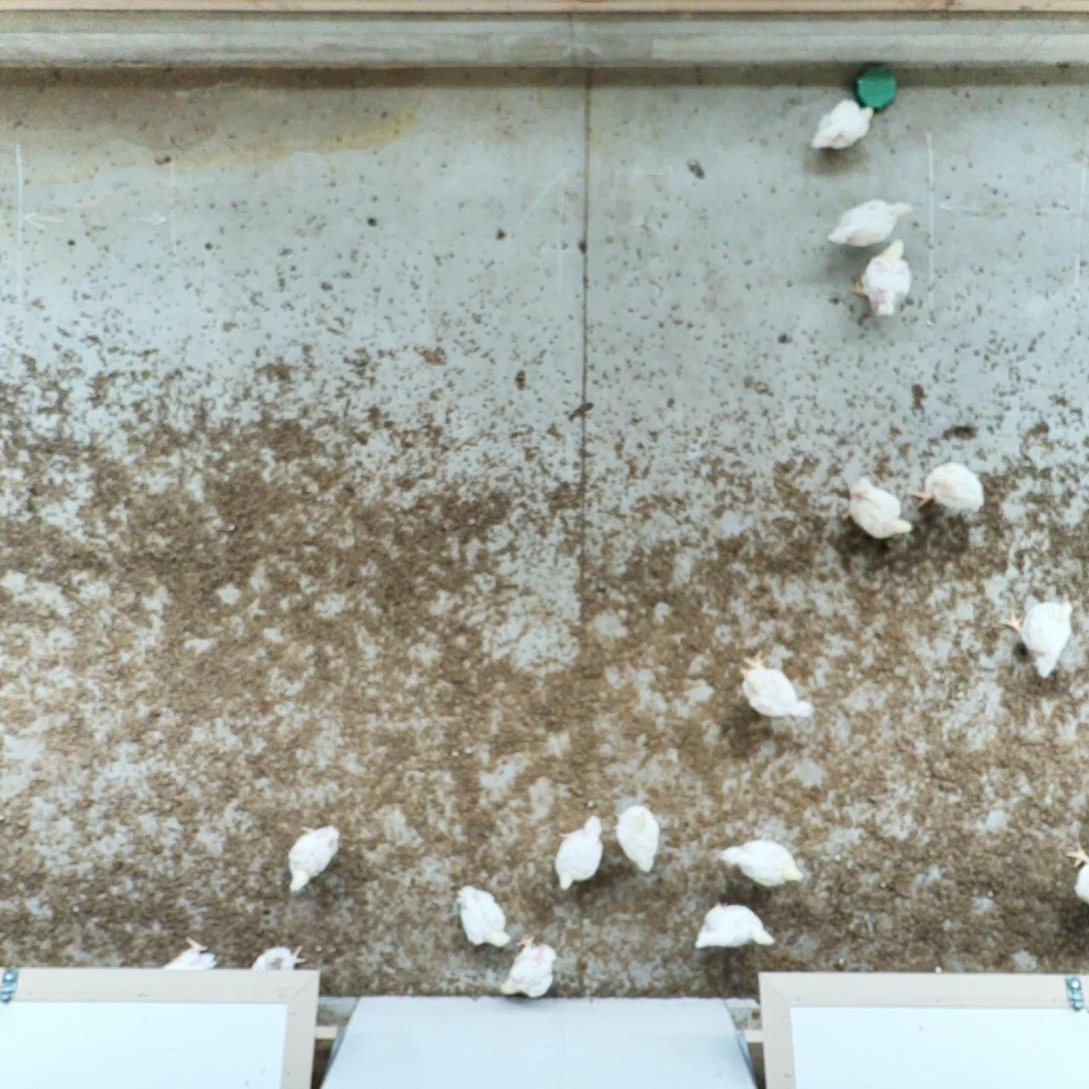chicken: (1003, 595, 1077, 678), (848, 238, 915, 320), (842, 473, 917, 543), (738, 651, 814, 720), (719, 835, 806, 888), (910, 458, 988, 517), (828, 197, 913, 251), (283, 822, 343, 898), (694, 899, 776, 954), (554, 812, 608, 888), (497, 935, 559, 1000), (811, 96, 876, 154), (456, 884, 512, 949), (614, 802, 663, 873), (158, 935, 220, 976), (250, 943, 309, 976), (1065, 841, 1089, 909)
